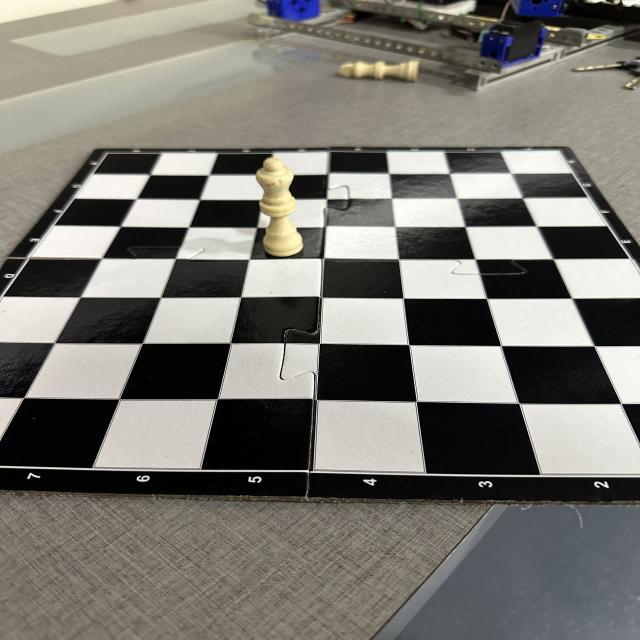White-King: (338, 60, 421, 83)
White-Queen: (256, 158, 304, 257)
